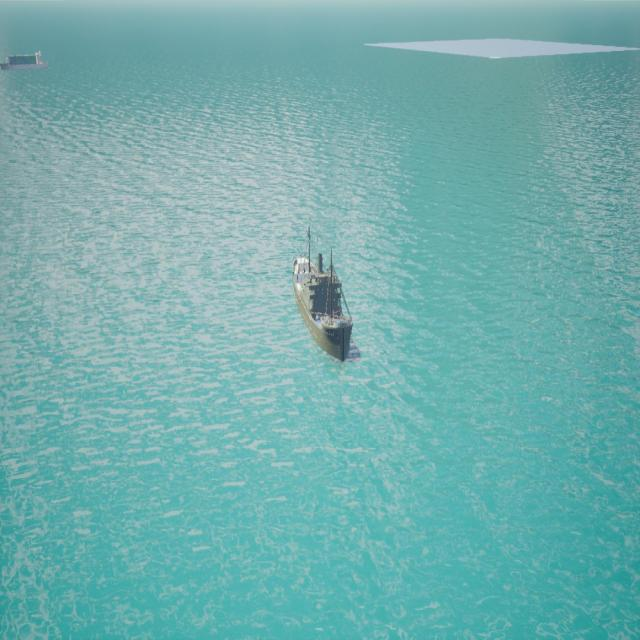fishing ship: (293, 251, 354, 366), (2, 51, 51, 73)
